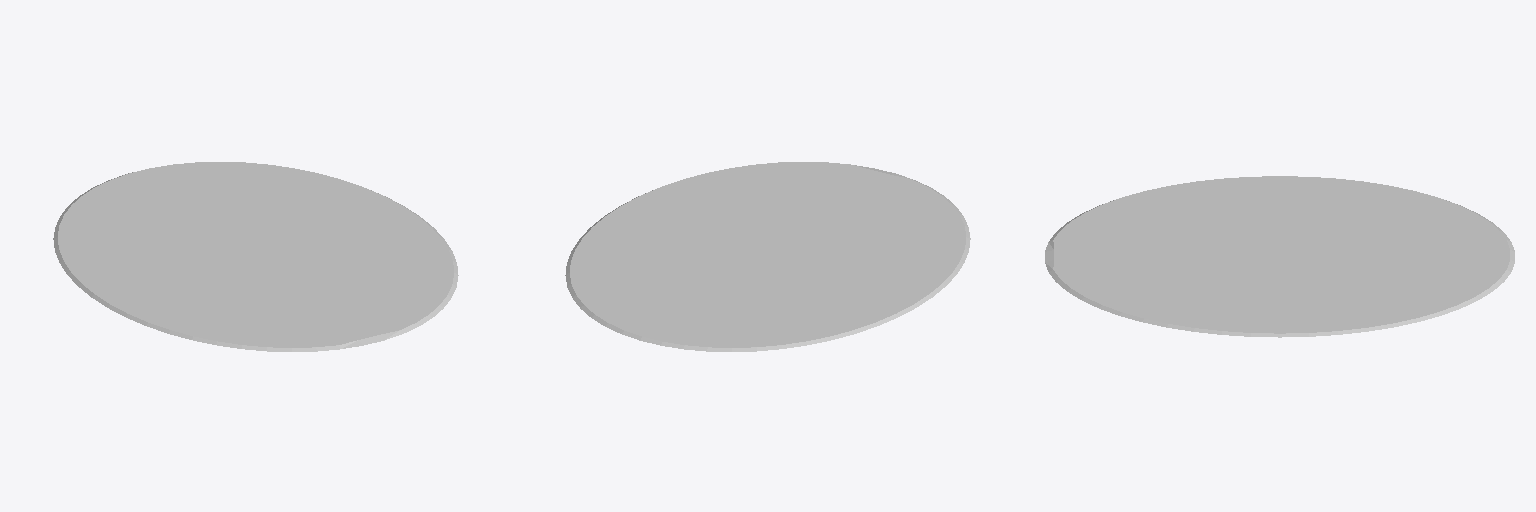
Rendered from room_floor.obj.
The picture shows the model from 3 angles: view 1: azimuth 30°, elevation 25°; view 2: azimuth 150°, elevation 25°; view 3: azimuth 270°, elevation 25°; orthographic projection.
Parts seen in each view (by area): view 1: pCylinder2; view 2: pCylinder2; view 3: pCylinder2.
Part boxes in pixels (bbox=[...]): pCylinder2: bbox=[53, 162, 458, 351]; pCylinder2: bbox=[565, 162, 970, 351]; pCylinder2: bbox=[1045, 176, 1514, 337].
Size of the model in its own units: 17.97 by 0.1178 by 22.21.